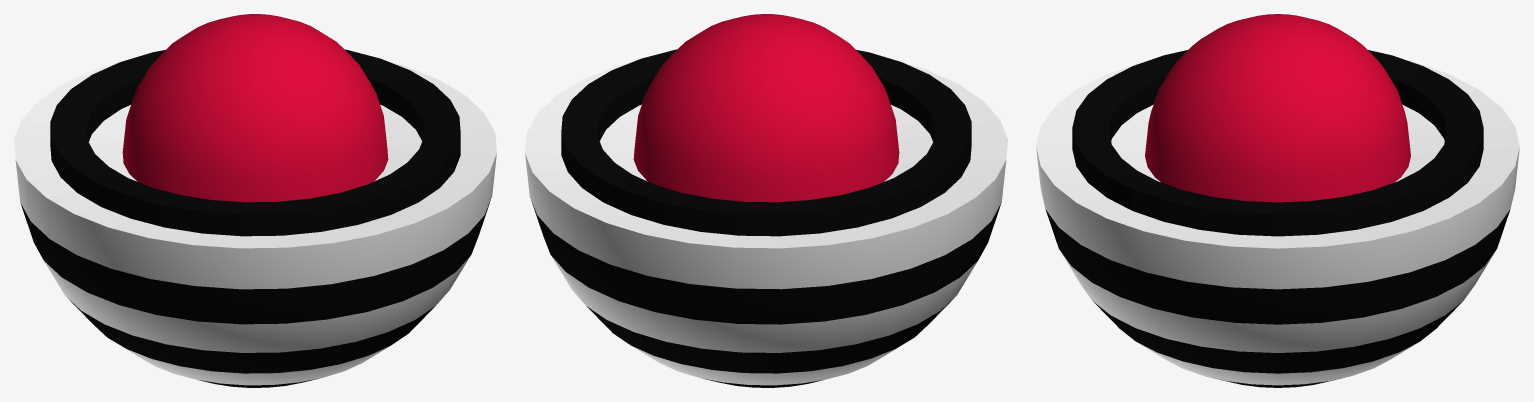
The model's file is drone.fbx.
The picture shows the model from 3 angles, left to right: view 1: azimuth 30°, elevation 25°; view 2: azimuth 150°, elevation 25°; view 3: azimuth 270°, elevation 25°; orthographic projection.
Parts seen in each view (by area): view 1: Sphere001; view 2: Sphere001; view 3: Sphere001.
Part boxes in pixels (box(x1,y1,x2,y2)): Sphere001: box(14, 14, 496, 387); Sphere001: box(525, 14, 1007, 387); Sphere001: box(1036, 14, 1519, 387).
Size of the model in its own units: 40 by 30.96 by 40.
